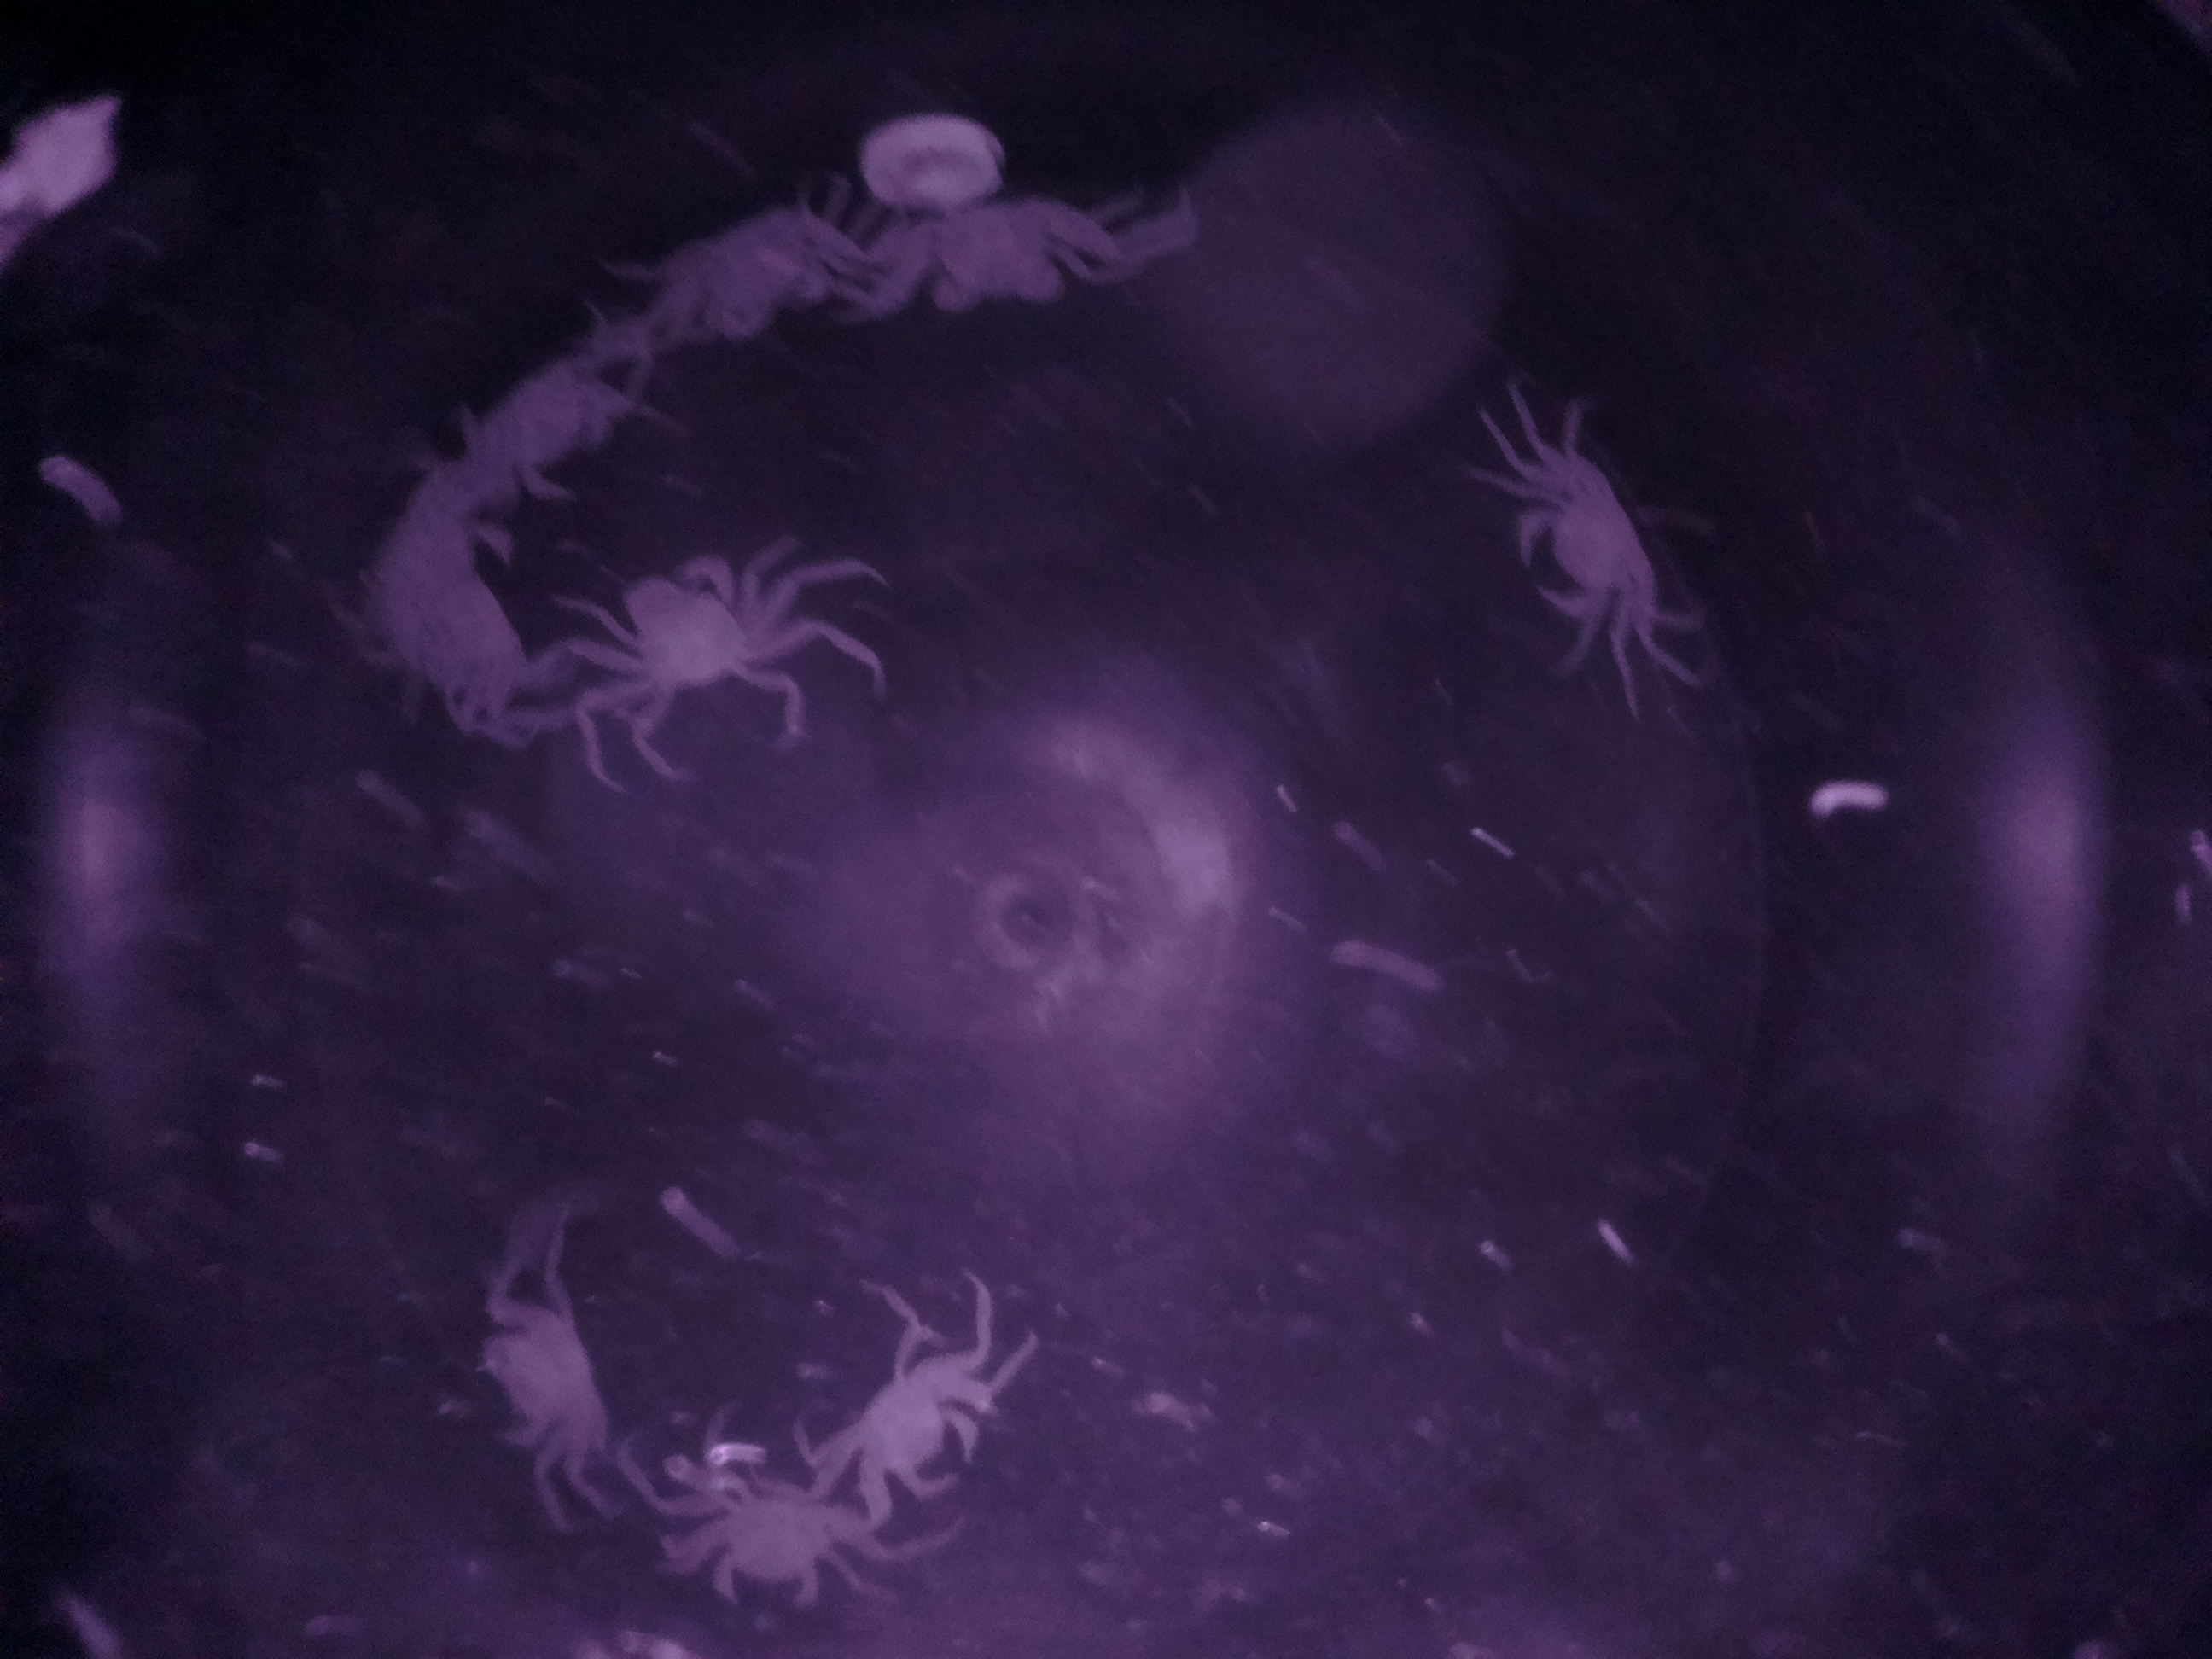Crab: (451, 1274, 625, 1480), (841, 1335, 1001, 1527), (895, 171, 1085, 331), (688, 1434, 841, 1621), (610, 544, 759, 734), (1503, 477, 1658, 641)
